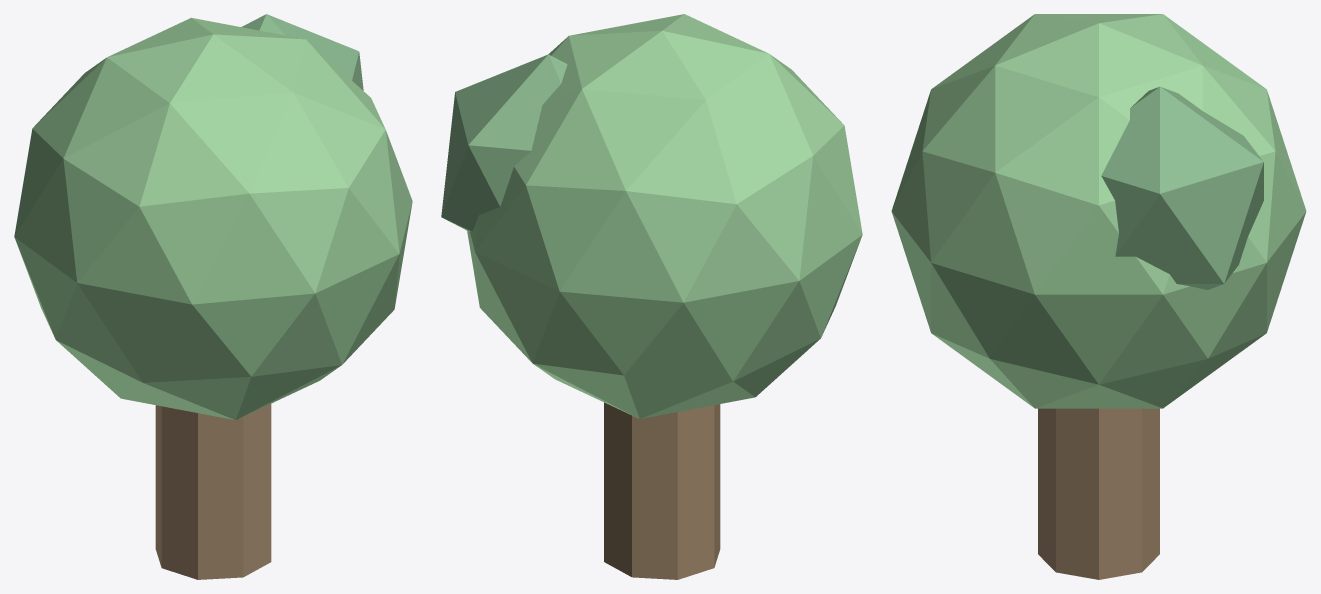
Rendered from tree_a.glb.
3 views of the same model, side by side, from view 1: azimuth 30°, elevation 25°; view 2: azimuth 150°, elevation 25°; view 3: azimuth 270°, elevation 25° (orthographic).
Parts seen in each view (by area): view 1: tree_a; view 2: tree_a; view 3: tree_a.
Boxes of the visible parts, x1,y1,x2,y2 form: tree_a: (14,14,412,579); tree_a: (441,14,862,579); tree_a: (891,14,1306,579).
Size of the model in its own units: 0.6622 by 0.96 by 0.68.
